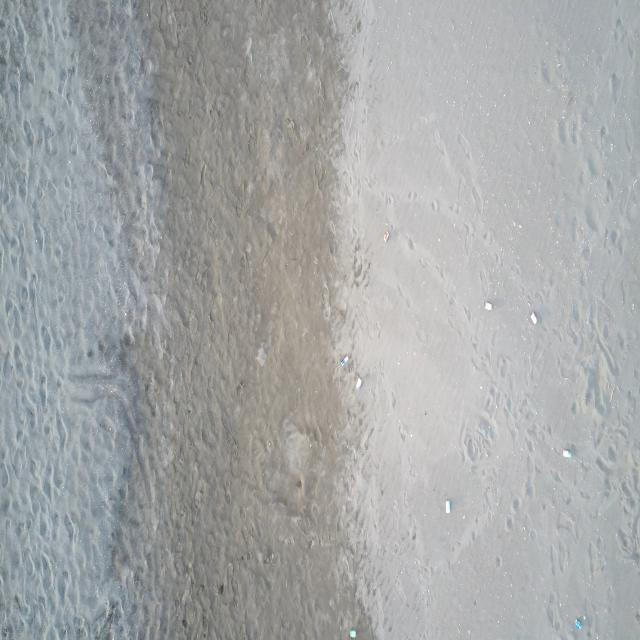tin-and-aluminum-cans: (561, 448, 573, 460), (340, 354, 349, 368), (483, 300, 492, 312), (355, 376, 362, 390), (530, 312, 538, 324), (574, 619, 582, 630), (445, 500, 451, 514), (384, 230, 389, 244), (351, 628, 356, 640)
